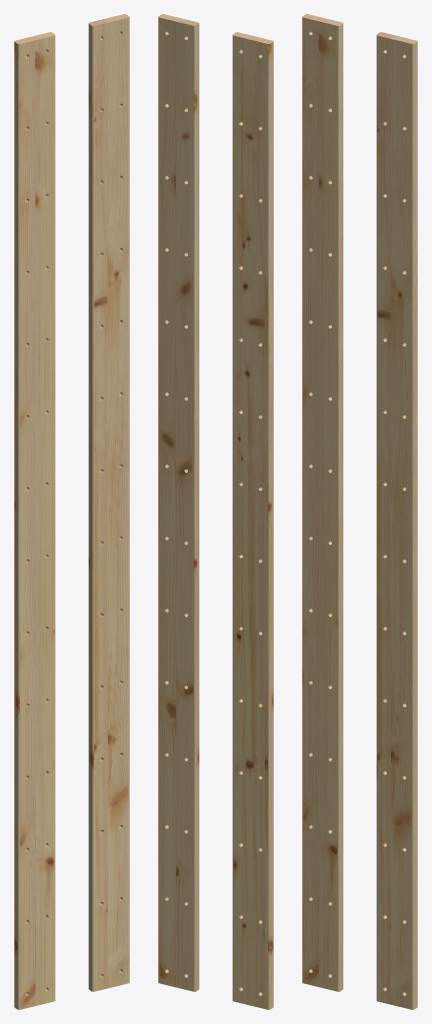
File: 08 - HEJNE Post - softwood 171 cm.glb
The picture shows the model from 3 angles, left to right: view 1: azimuth 30°, elevation 25°; view 2: azimuth 150°, elevation 25°; view 3: azimuth 330°, elevation 25°; orthographic projection.
Bounding box in the file's own units: 0.2078 × 1.71 × 0.015.
1 material, 1 textured.
